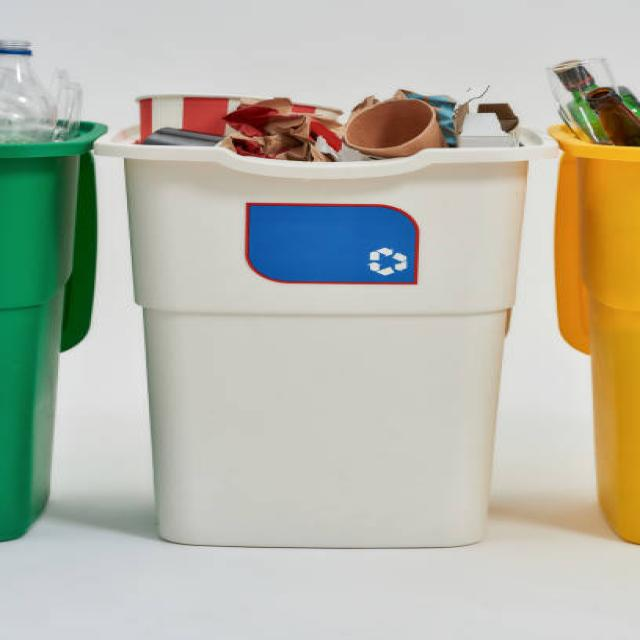cardboard: (133, 84, 494, 148)
